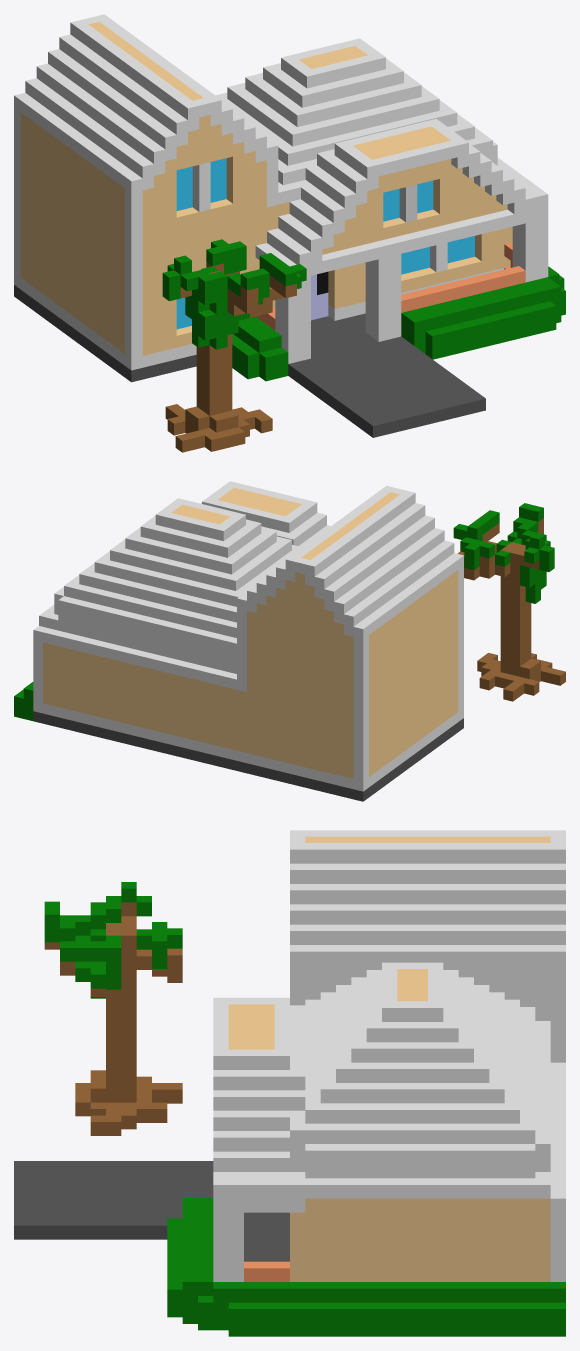
Rendered from House3.obj.
3 views of the same model, one above another, from view 1: azimuth 30°, elevation 25°; view 2: azimuth 150°, elevation 25°; view 3: azimuth 270°, elevation 25° (orthographic). The views are drawn at different scales.
Size of the model in its own units: 3.9 by 2.2 by 3.6.
1 material, 1 textured.
